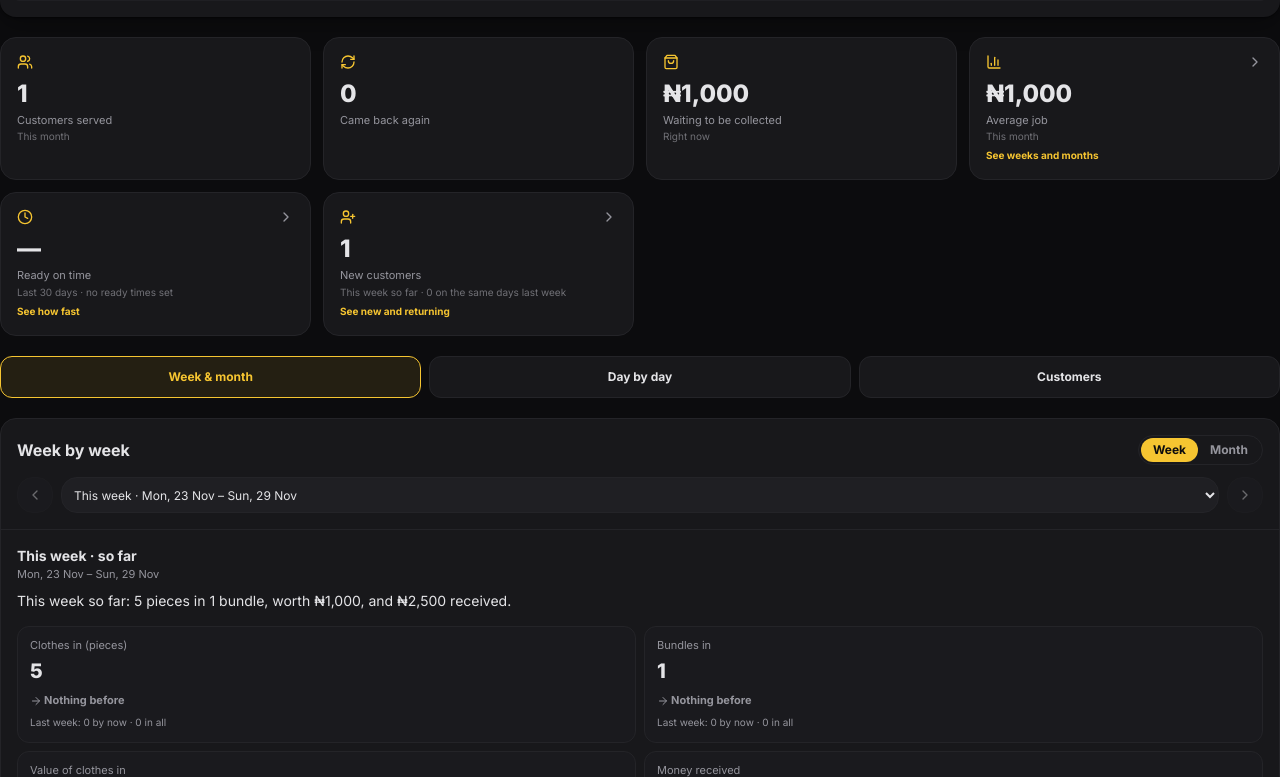
Test case: reading the days back in Analysis › goes to a chosen date
This screenshot has width=1280, height=777.
(page scrolled)
Click the button "Day by day": (640, 377) 429,356 -> 851,398
(page scrolled)
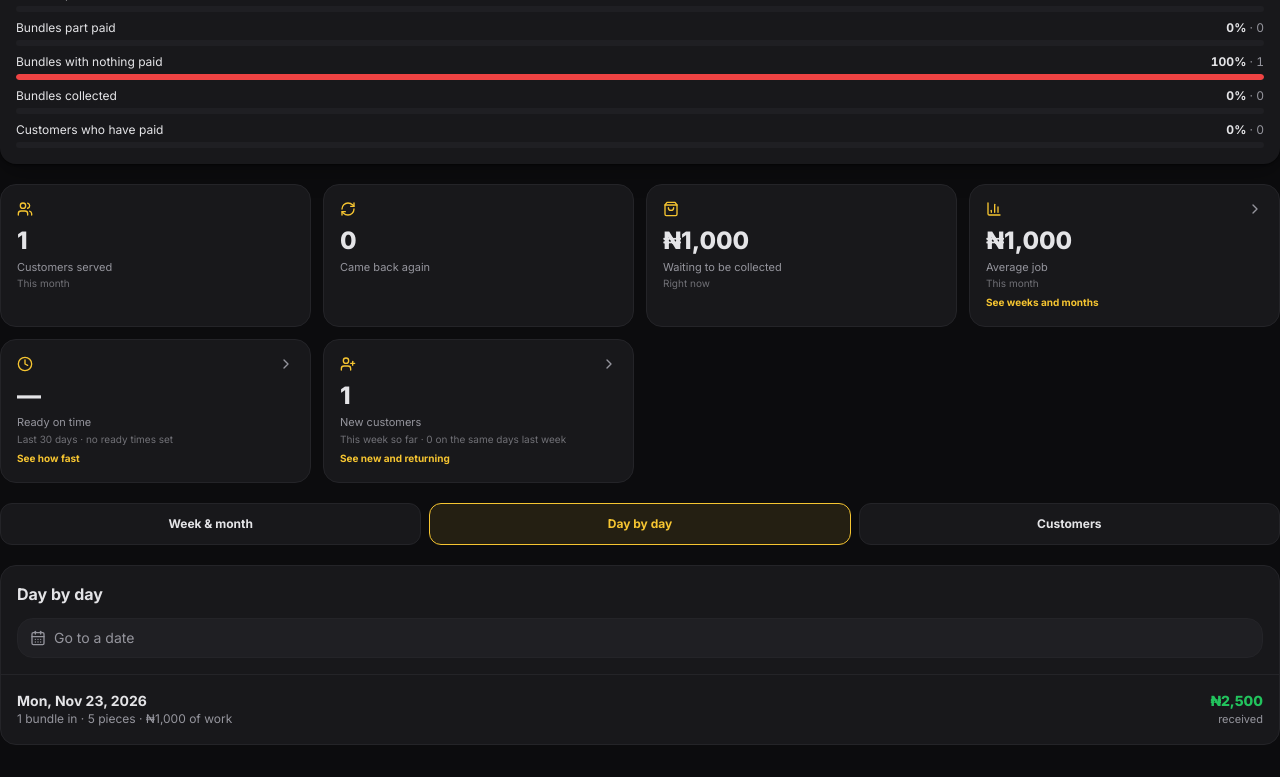
In the date field labelled "Go to a date": (640, 638) 17,618 -> 1263,658, type "2001-01-01"
(page scrolled)
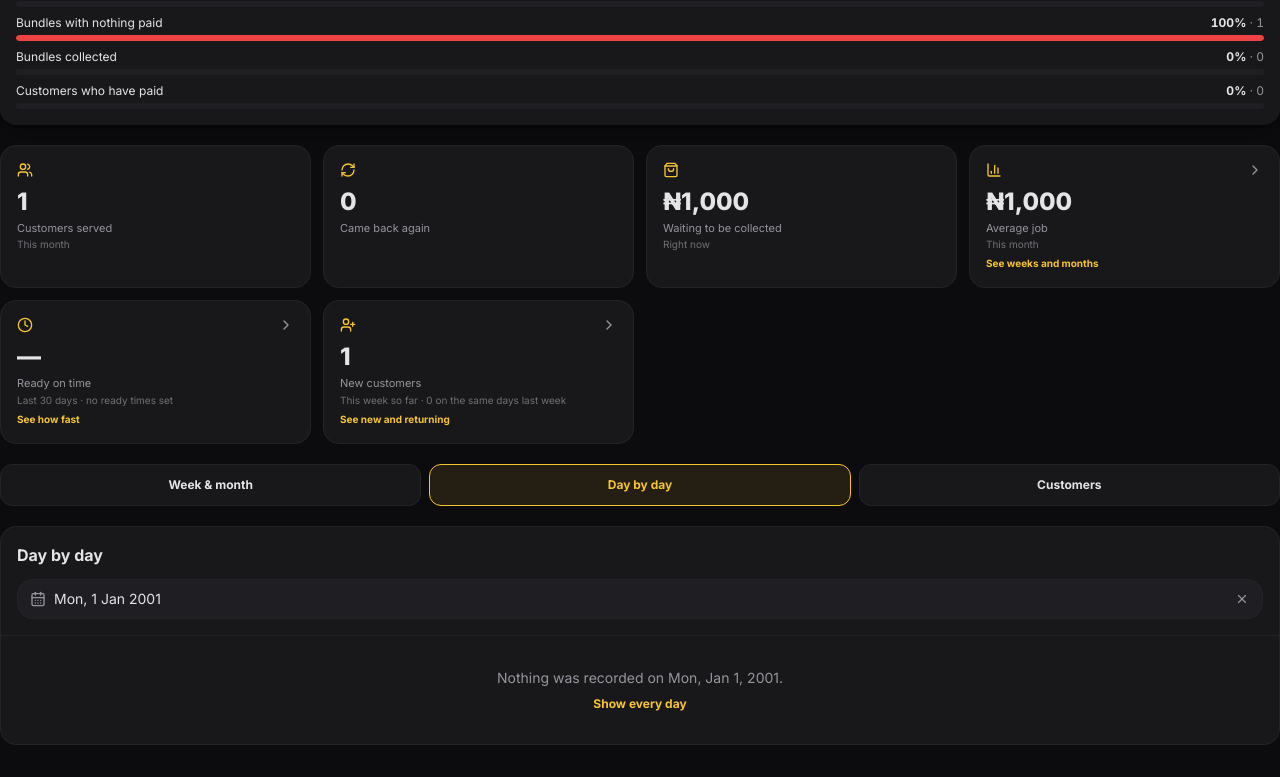
Expected: the text "Nothing was recorded on Mon, Jan 1, 2001. Show every day" is shown, 497,669 -> 783,712
